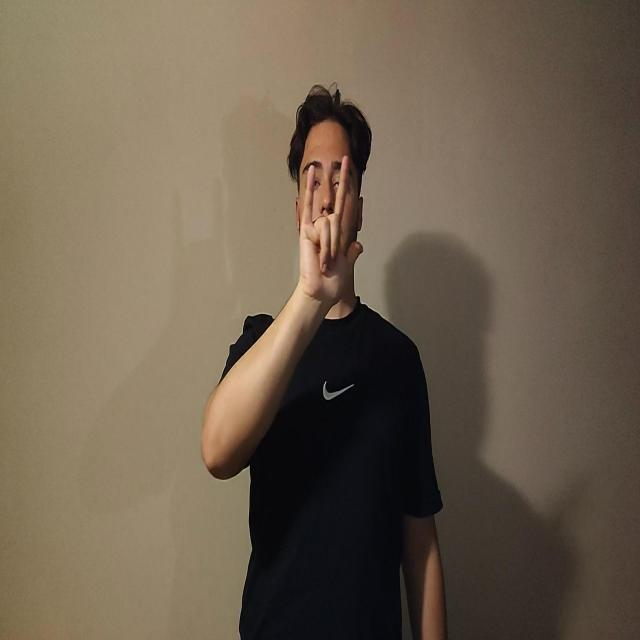iloveyou: (298, 153, 363, 307)
